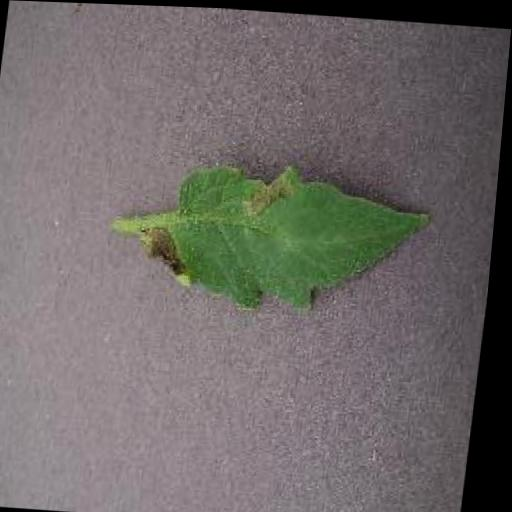Late Blight: (136, 147, 439, 319)
